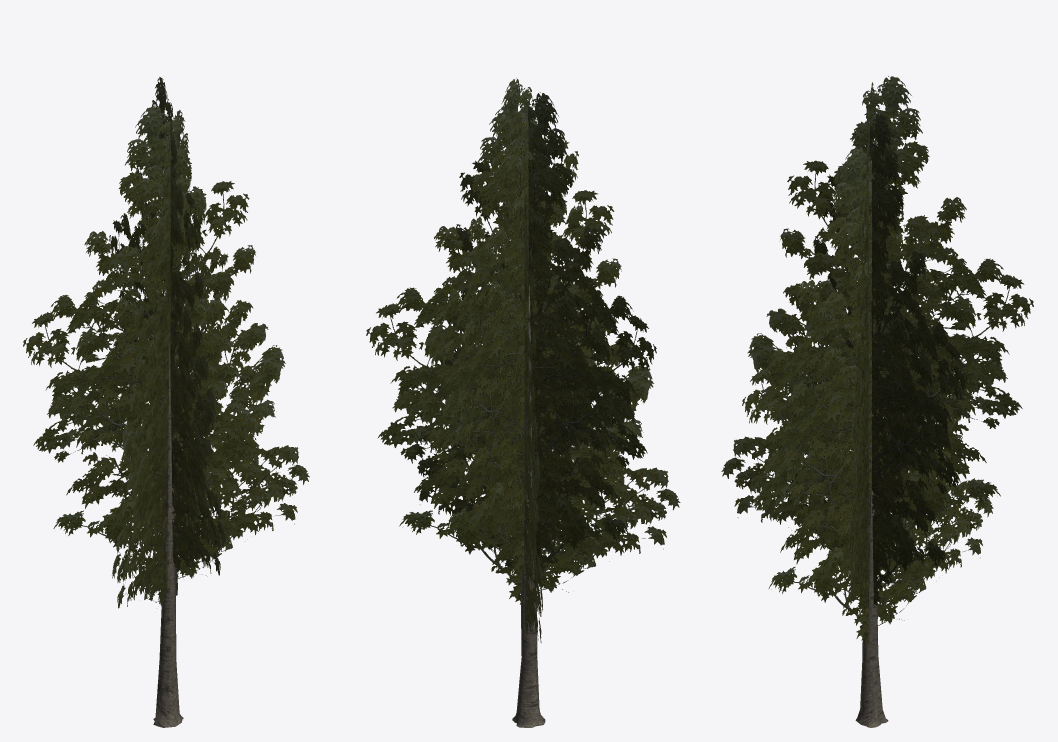
The model's file is tree_rt_2_1.dae.
3 renders of one model, left to right at view 1: azimuth 30°, elevation 25°; view 2: azimuth 150°, elevation 25°; view 3: azimuth 270°, elevation 25°, orthographic. The views are drawn at different scales.
Parts seen in each view (by area): view 1: tree_rt_2_1; view 2: tree_rt_2_1; view 3: tree_rt_2_1.
Boxes of the visible parts, left/top/right/bottom form: tree_rt_2_1: left=23, top=77, right=309, bottom=727; tree_rt_2_1: left=366, top=77, right=680, bottom=727; tree_rt_2_1: left=721, top=76, right=1033, bottom=727.
Size of the model in its own units: 2.31 by 2.31 by 5.06.
2 materials, 2 textured.
